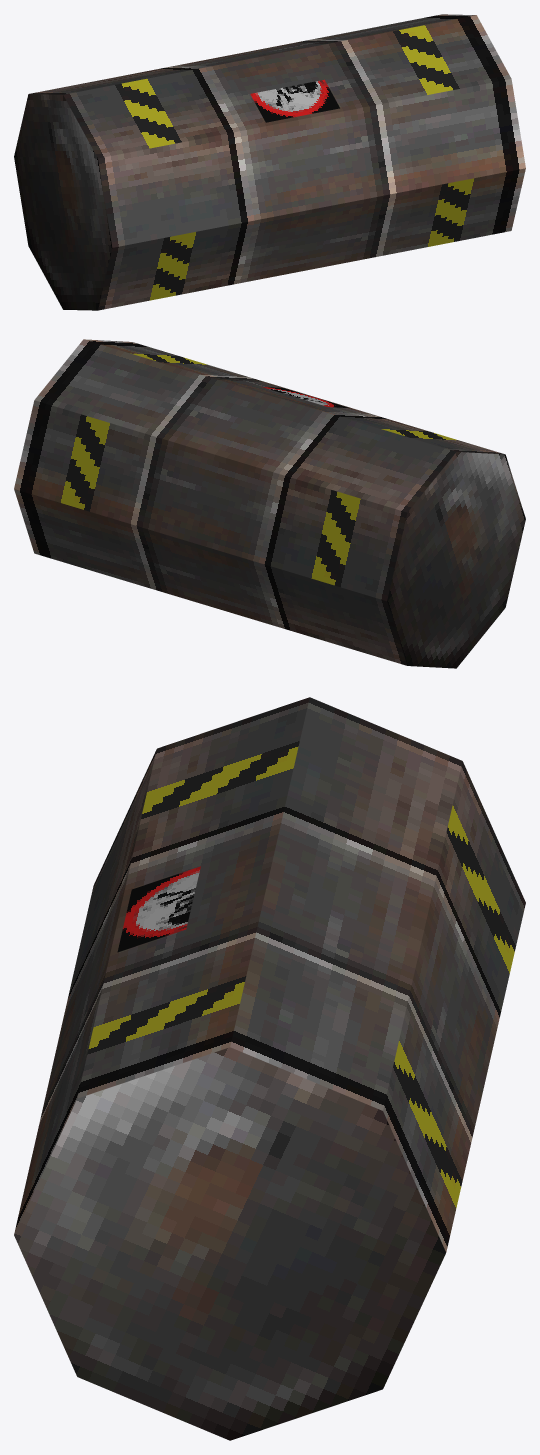
Rendered from primary_134.glb.
The picture shows the model from 3 angles, top to bottom: view 1: azimuth 30°, elevation 25°; view 2: azimuth 150°, elevation 25°; view 3: azimuth 270°, elevation 25°; orthographic projection. The views are drawn at different scales.
Visible parts, largest first — view 1: Object; view 2: Object; view 3: Object.
Part boxes in pixels (bbox=[...]): Object: bbox=[14, 14, 525, 310]; Object: bbox=[14, 339, 525, 668]; Object: bbox=[14, 697, 525, 1440].
Bounding box in the file's own units: 1.56 × 0.7803 × 0.9199.
Materials: 9 (9 with a texture image).
